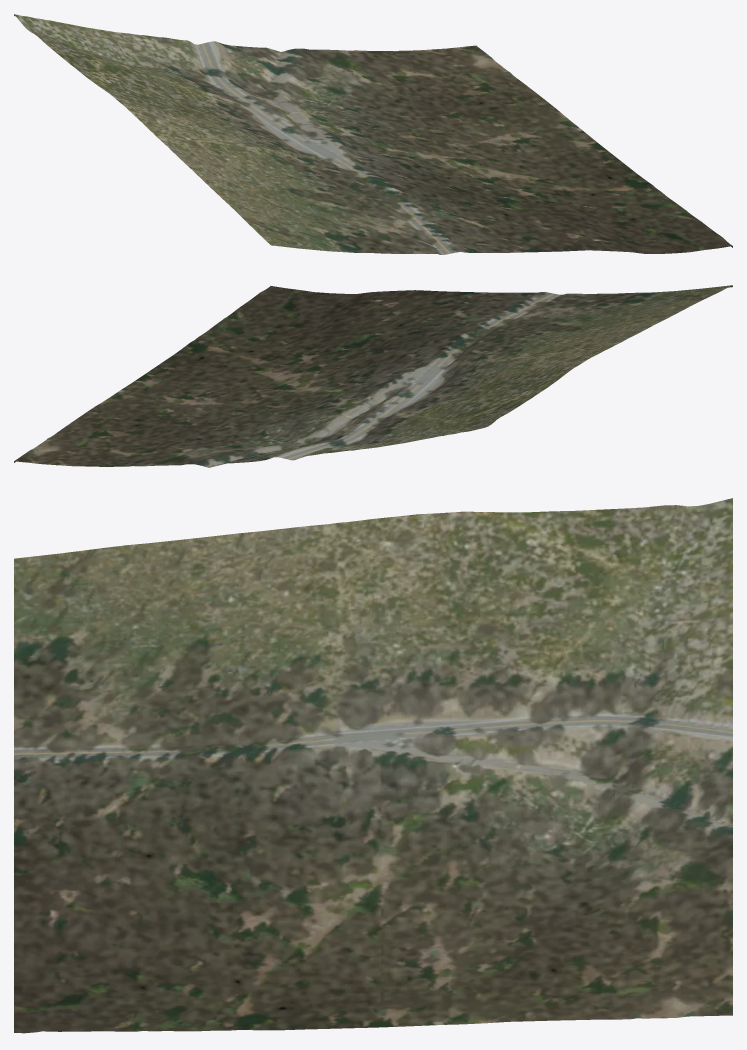
3 renders of one model, top to bottom at view 1: azimuth 30°, elevation 25°; view 2: azimuth 150°, elevation 25°; view 3: azimuth 270°, elevation 25°, orthographic. The views are drawn at different scales.
Bounding box in the file's own units: 250 × 82.06 × 241.
1 material, 1 textured.
